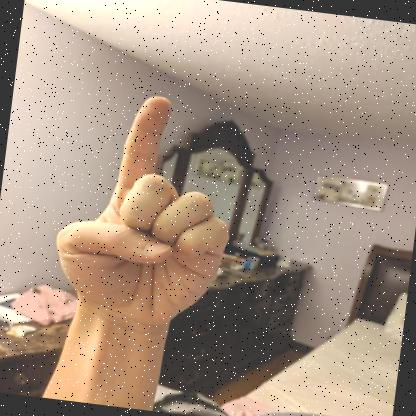D: (56, 96, 228, 327)
